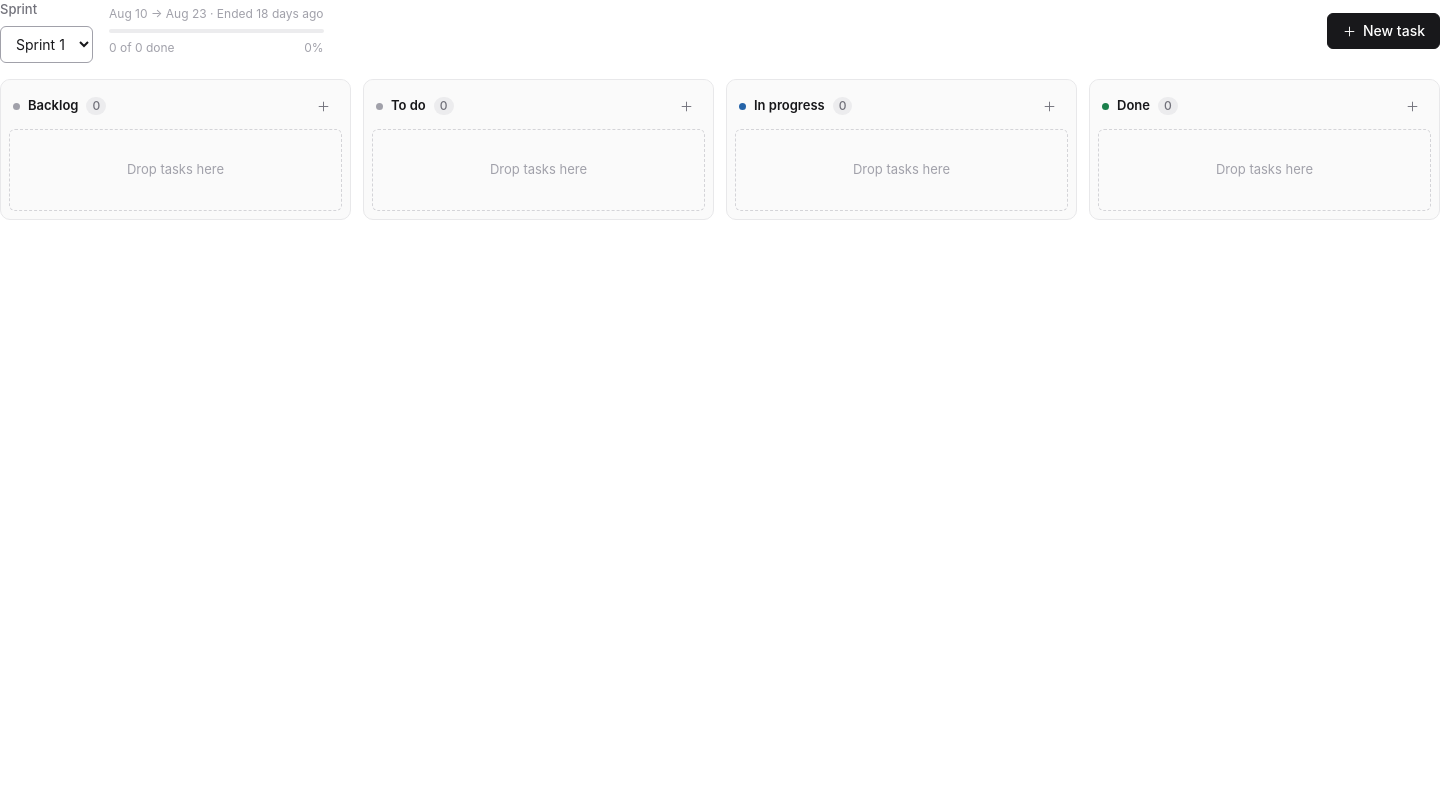
ProjectBoardPage › creates a task and shows it on the board
The width and height of the screenshot is (1440, 810).
Click the button "New task": (1383, 31) [1327,13,1439,49]
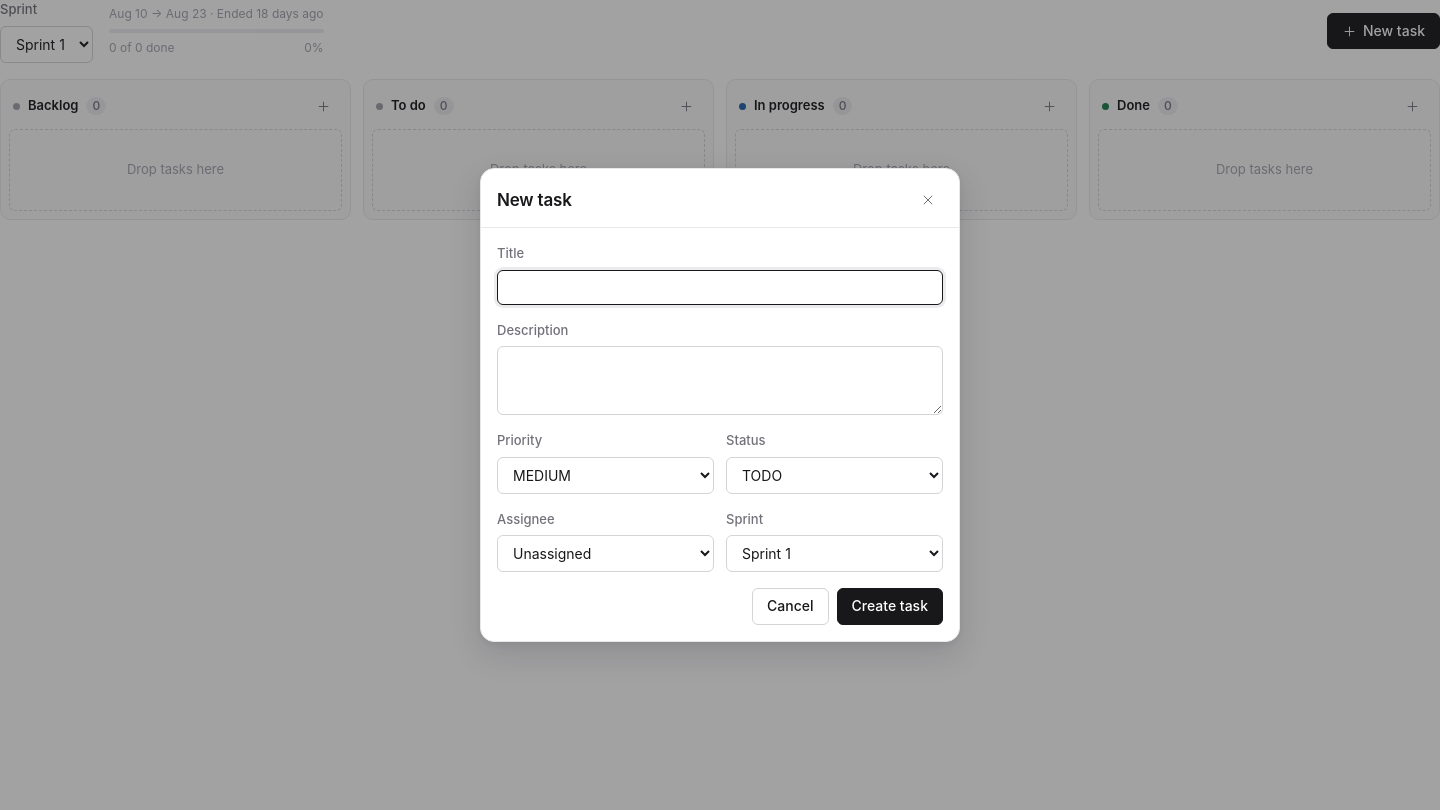
In the field labelled "Title": (720, 287) [497,270,943,305], type "Retry webhook delivery"
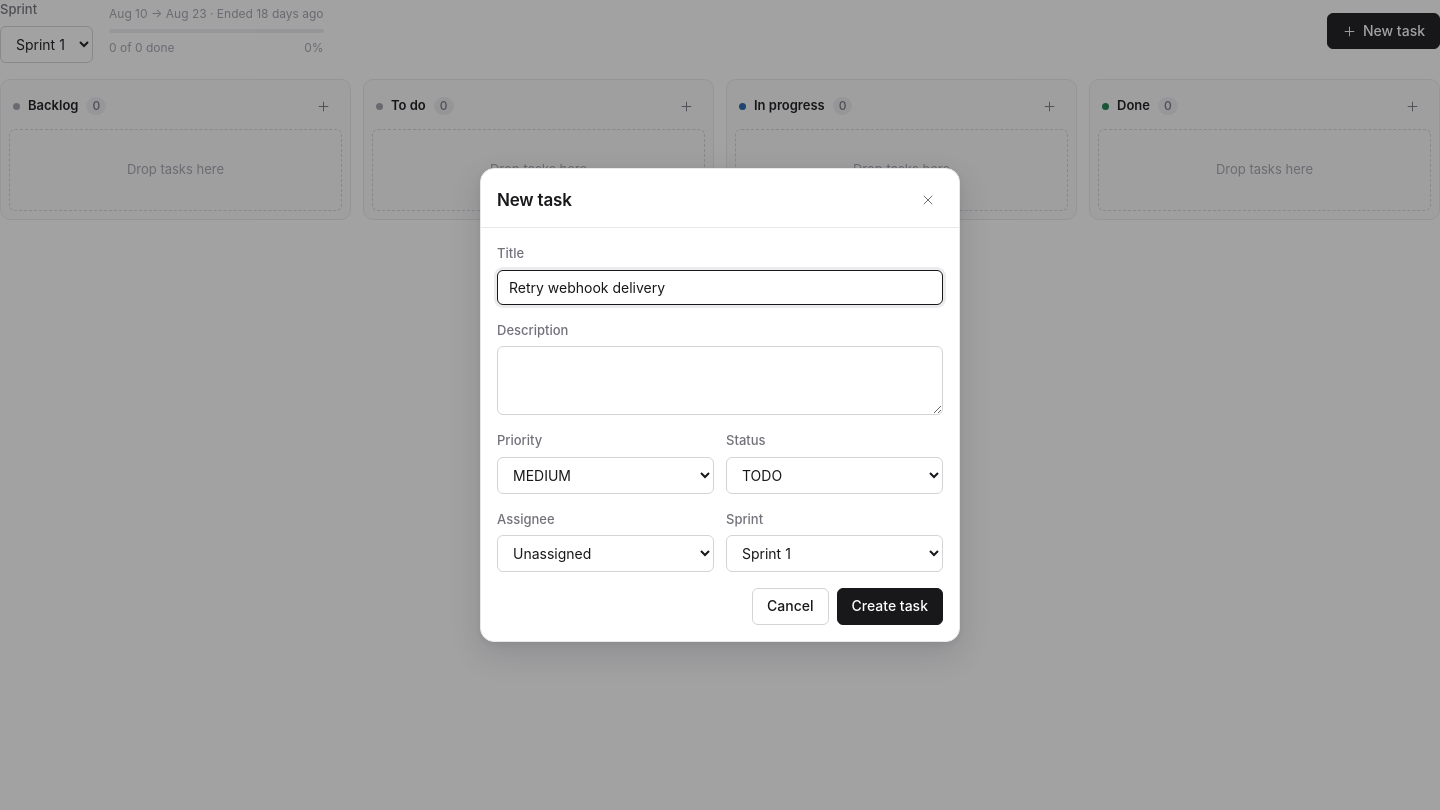
Click the button "Create task": (890, 606) [836,588,943,625]
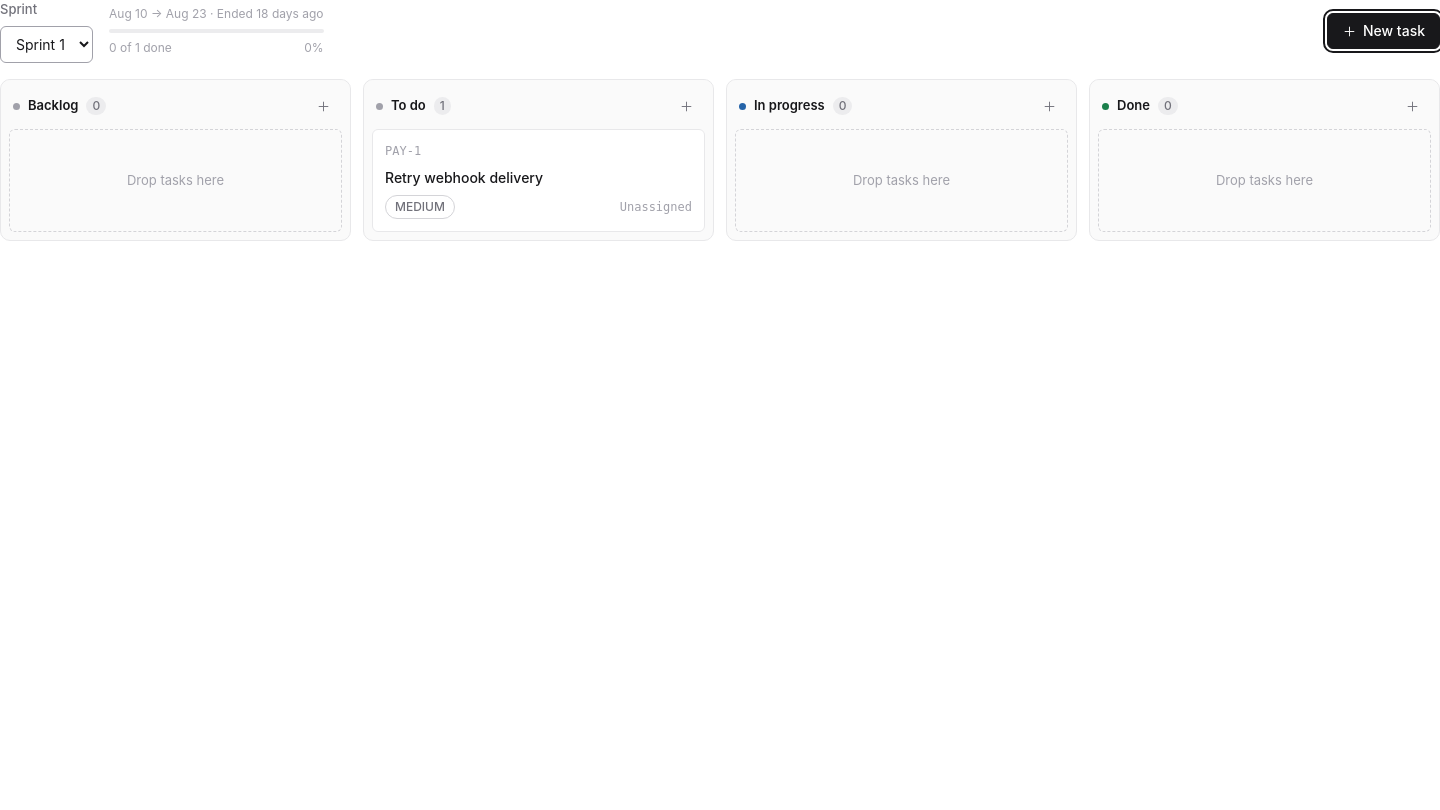
Expected: the text "Retry webhook delivery" is shown, [385,168,543,186]
